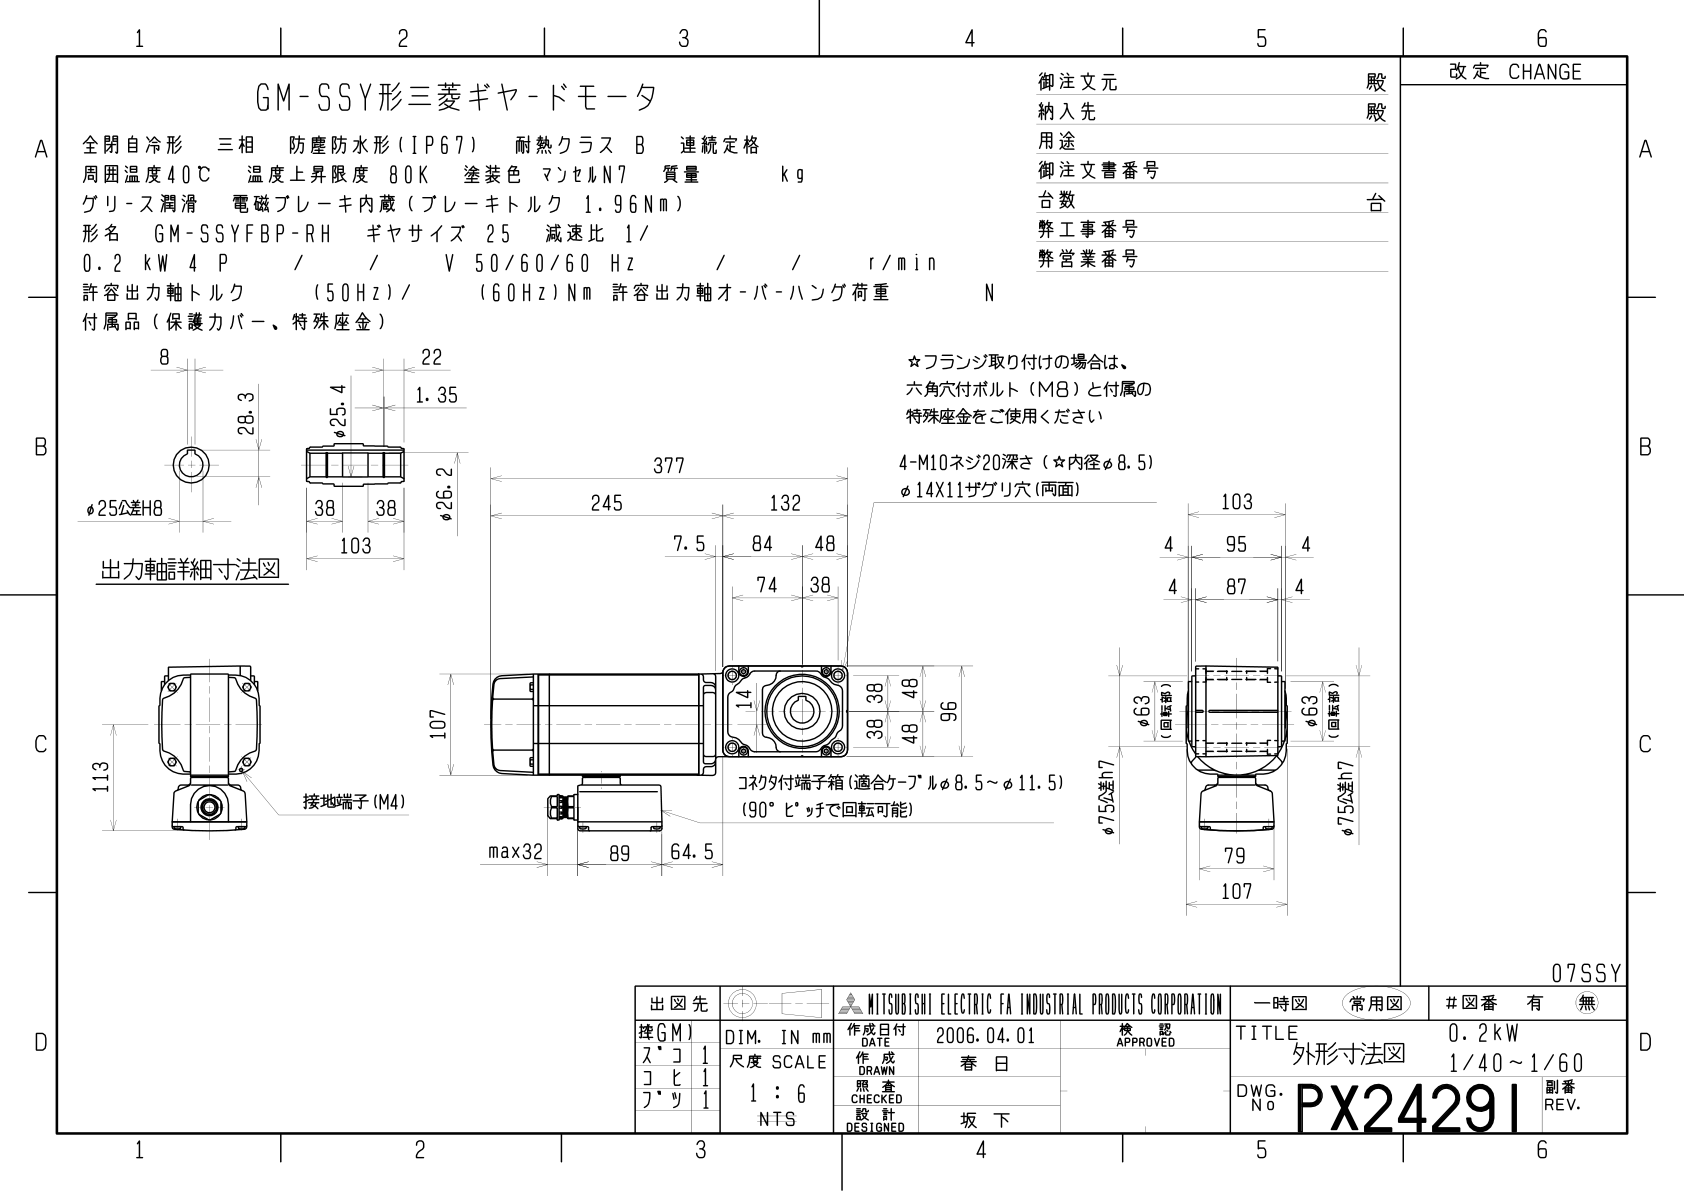GM_SSY_IP67_三相: (82, 335, 1381, 953)
